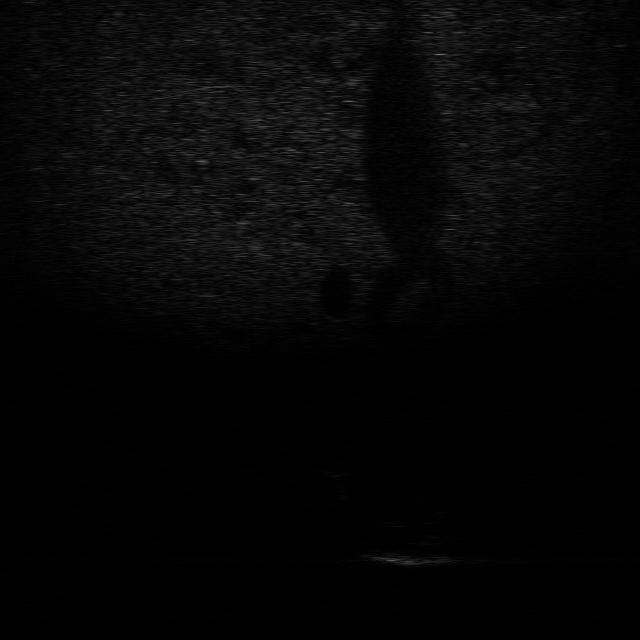ball: (312, 451, 358, 479)
metal bucket: (365, 534, 455, 570)
tyre: (371, 494, 450, 532)
